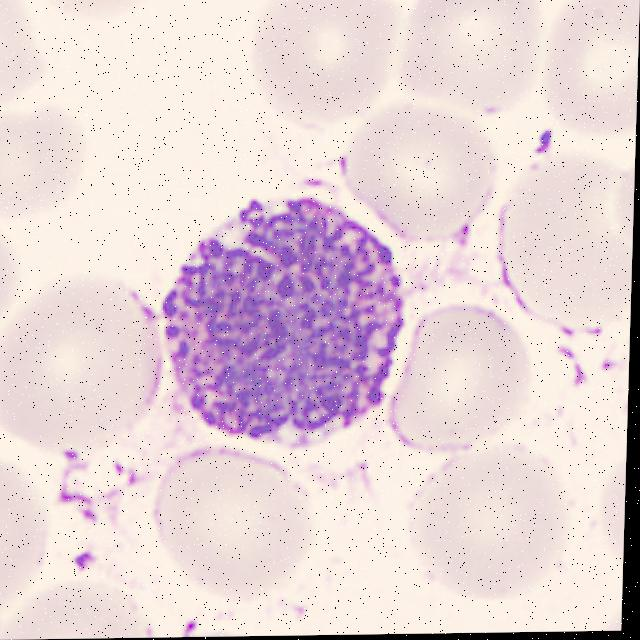basophil: (156, 193, 419, 458)
rbc: (392, 440, 580, 621), (0, 285, 169, 454), (147, 448, 322, 610), (491, 142, 635, 333), (241, 0, 403, 152), (384, 309, 537, 464), (338, 99, 502, 239), (392, 0, 558, 108), (540, 0, 640, 140), (0, 99, 99, 232), (0, 573, 161, 640), (0, 452, 51, 631), (586, 145, 635, 279), (0, 0, 48, 121), (591, 436, 627, 578), (25, 0, 155, 31), (0, 232, 23, 342), (168, 623, 268, 637), (593, 598, 622, 631)
